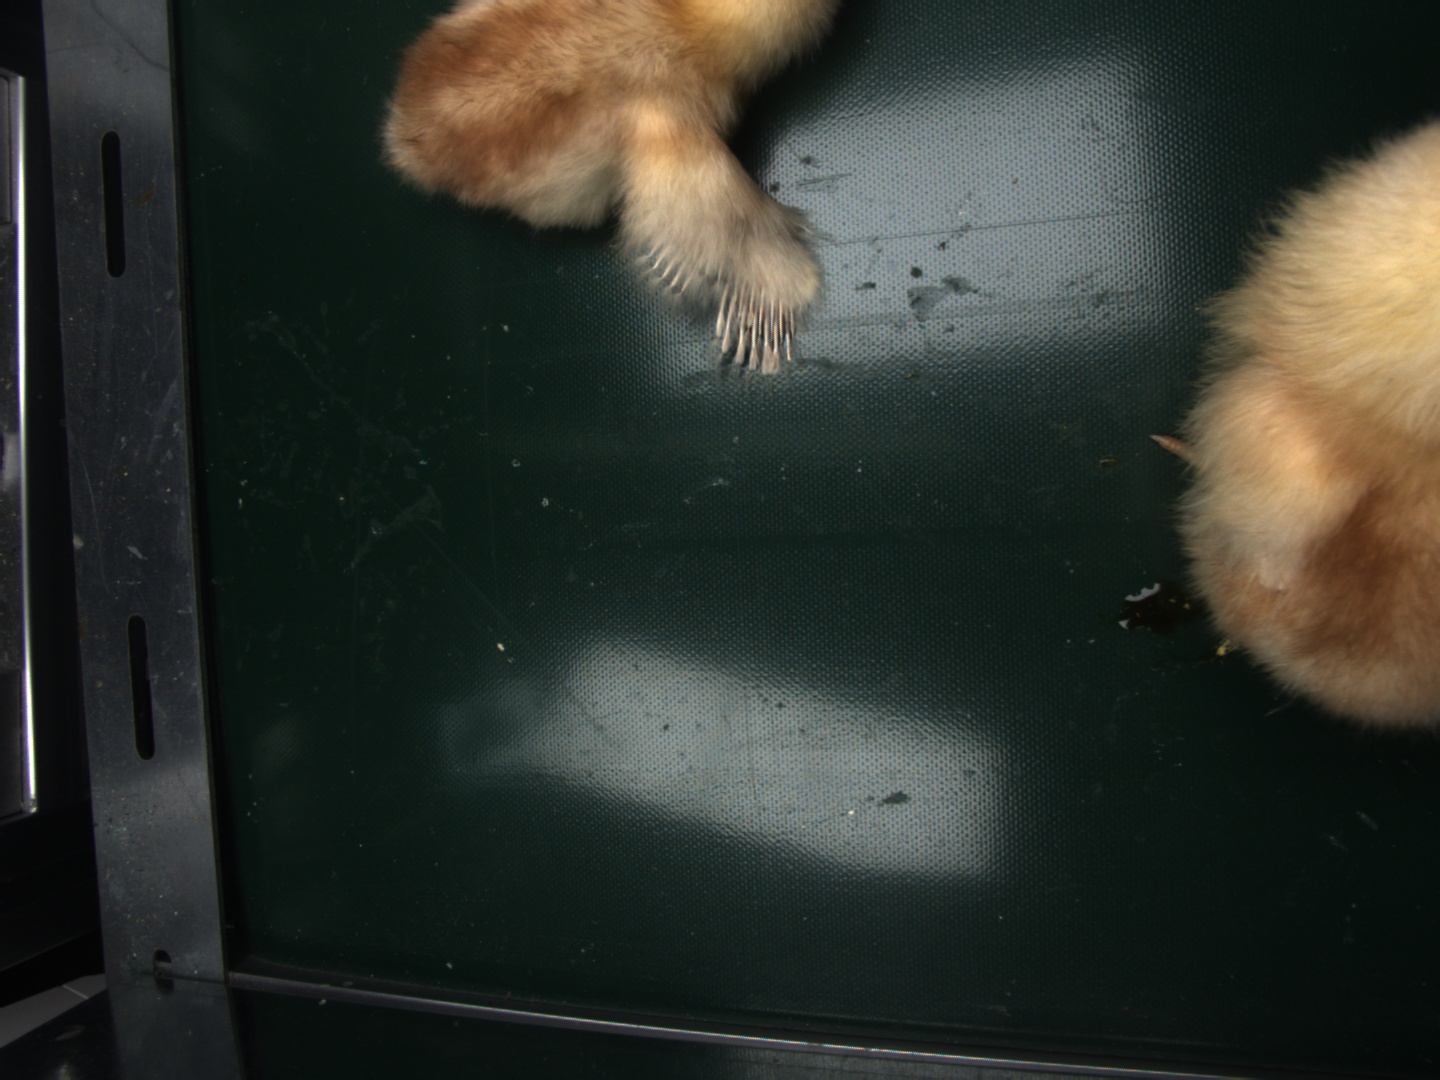female: (718, 278, 801, 374)
